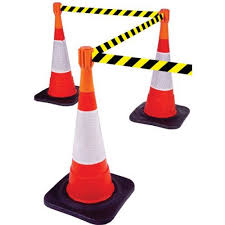cones: (43, 46, 143, 224), (127, 7, 190, 132), (36, 3, 77, 106)
